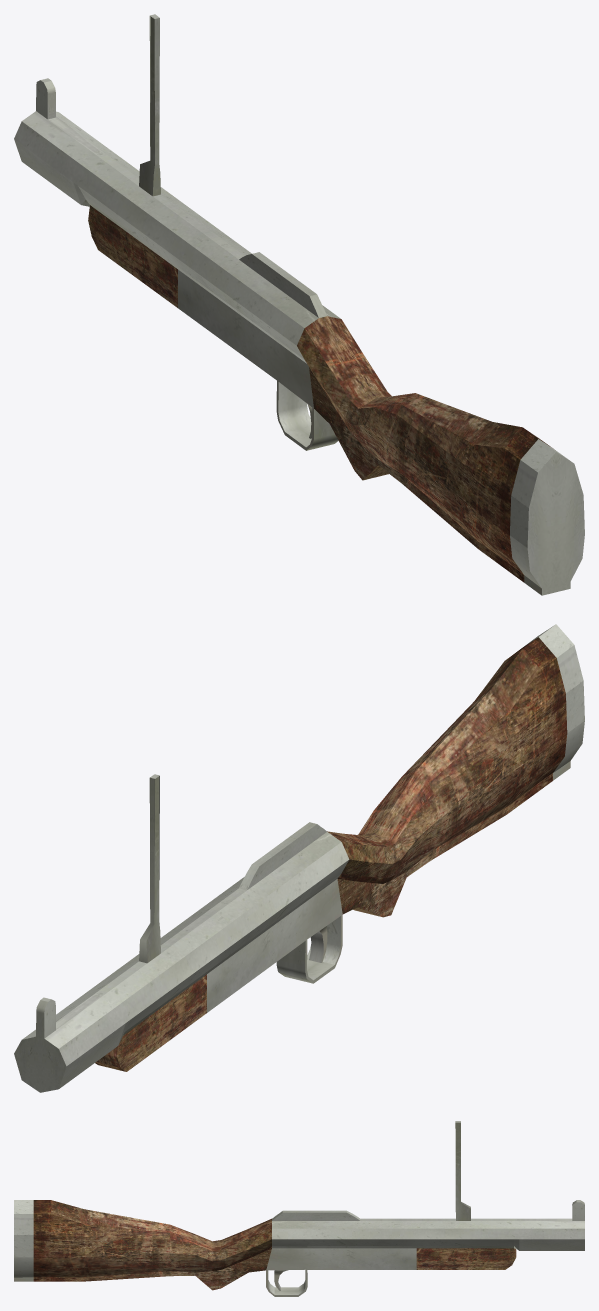
The model's file is u_granade_gun.fbx.
3 views of the same model, one above another, from view 1: azimuth 30°, elevation 25°; view 2: azimuth 150°, elevation 25°; view 3: azimuth 270°, elevation 25° (orthographic). The views are drawn at different scales.
Parts seen in each view (by area): view 1: GranadeGun; view 2: GranadeGun; view 3: GranadeGun.
Boxes of the visible parts, left/top/right/bottom form: GranadeGun: left=14, top=14, right=584, bottom=595; GranadeGun: left=14, top=624, right=584, bottom=1092; GranadeGun: left=14, top=1121, right=584, bottom=1296.
Bounding box in the file's own units: 0.6873 × 3.54 × 10.7.
